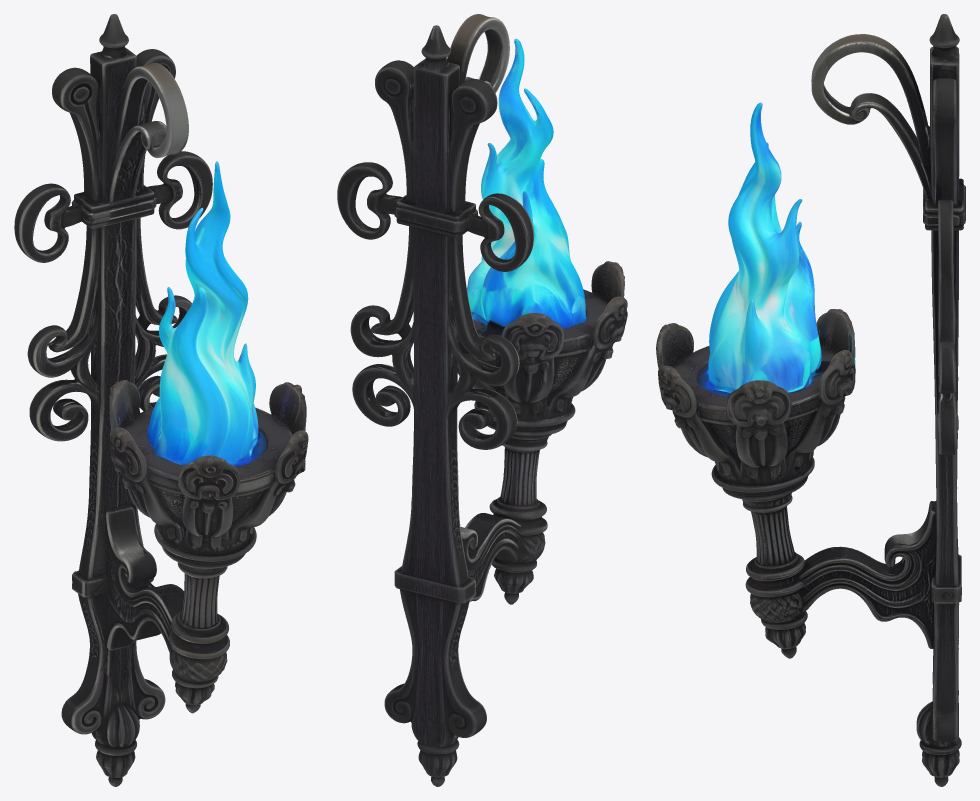
Rendered from Niflheim_Blue_Wall_Torch.glb.
3 renders of one model, left to right at view 1: azimuth 30°, elevation 25°; view 2: azimuth 150°, elevation 25°; view 3: azimuth 270°, elevation 25°, orthographic.
Visible parts, largest first — view 1: Object_5, Object_4, Object_6, Object_7; view 2: Object_6, Object_4, Object_5, Object_7; view 3: Object_4, Object_5, Object_6, Object_7.
Boxes of the visible parts, x1=… form: Object_5: x1=14, y1=20, x2=306, y2=774; Object_4: x1=22, y1=14, x2=308, y2=786; Object_6: x1=15, y1=14, x2=259, y2=785; Object_7: x1=110, y1=166, x2=278, y2=706; Object_6: x1=337, y1=18, x2=591, y2=786; Object_4: x1=351, y1=14, x2=624, y2=780; Object_5: x1=346, y1=38, x2=627, y2=774; Object_7: x1=476, y1=46, x2=618, y2=578; Object_4: x1=656, y1=14, x2=961, y2=786; Object_5: x1=712, y1=19, x2=961, y2=775; Object_6: x1=765, y1=14, x2=965, y2=786; Object_7: x1=755, y1=116, x2=792, y2=657.
Bounding box in the file's own units: 0.1977 × 0.75 × 0.273.
1 material, 1 textured.
